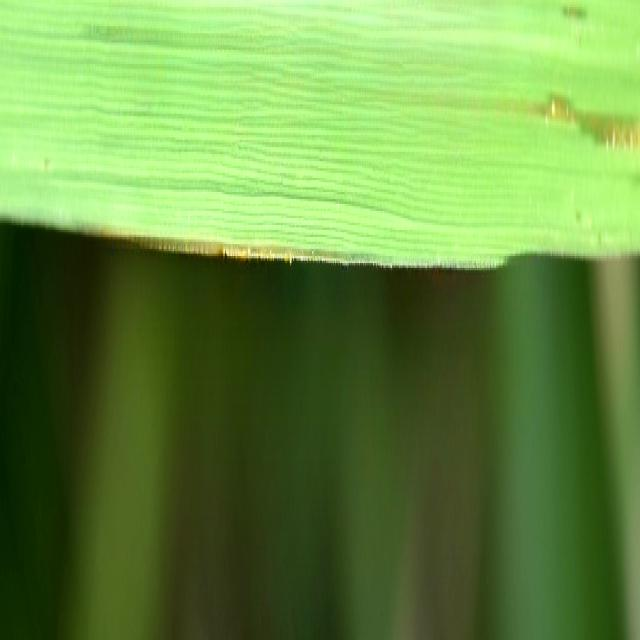BLS: (67, 228, 414, 263), (455, 92, 639, 148)
